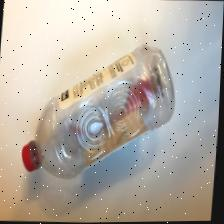plastic: (21, 37, 181, 184)
